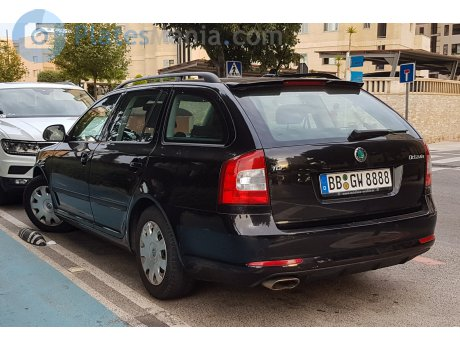License Plates: (323, 167, 386, 192), (312, 156, 321, 160), (322, 172, 330, 176)
